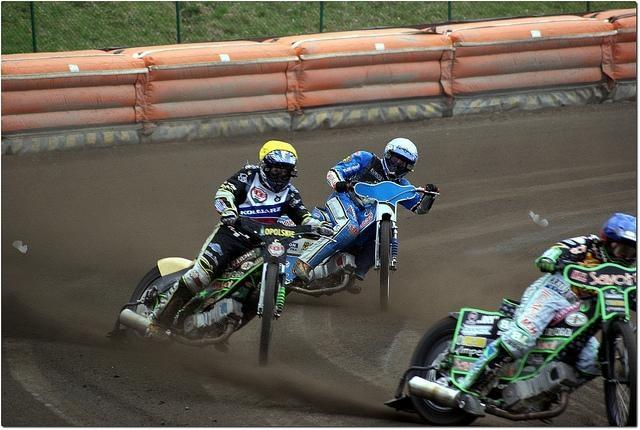motorcycle: (382, 260, 638, 426), (120, 216, 333, 364), (297, 178, 438, 306)
